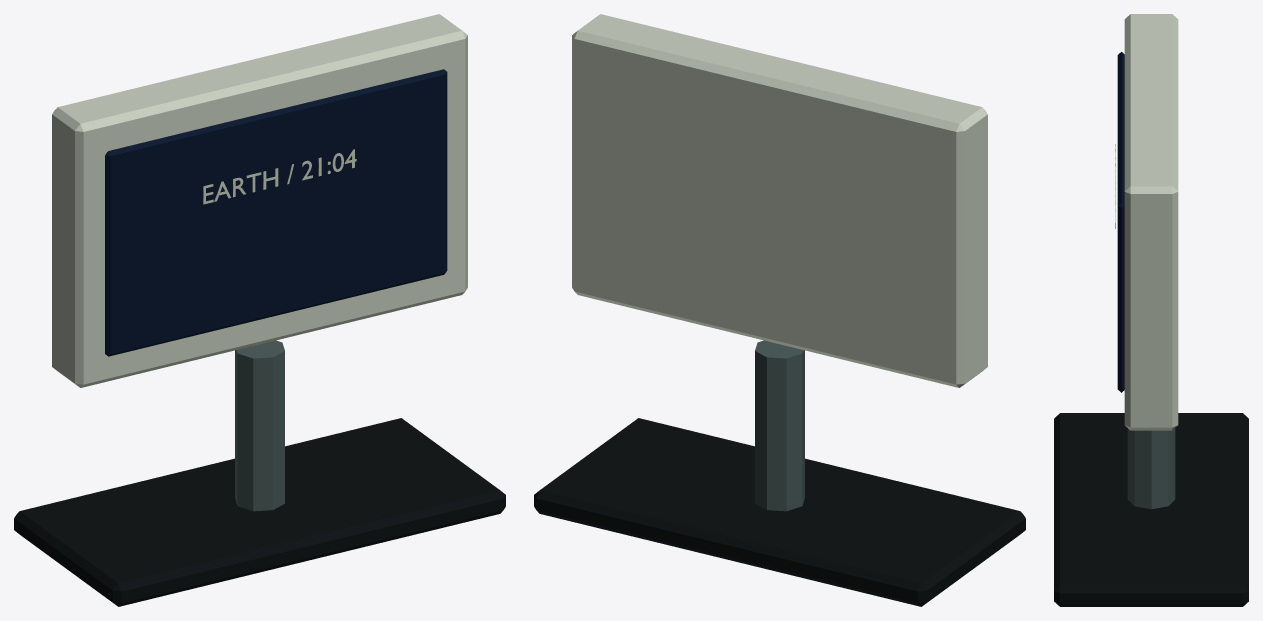
File: SM_MP_Jummt_TV.fbx
The picture shows the model from 3 angles, left to right: view 1: azimuth 30°, elevation 25°; view 2: azimuth 150°, elevation 25°; view 3: azimuth 270°, elevation 25°; orthographic projection. The views are drawn at different scales.
Parts seen in each view (by area): view 1: SM_MP_Jummt_TV; view 2: SM_MP_Jummt_TV; view 3: SM_MP_Jummt_TV.
Boxes of the visible parts, x1,y1,x2,y2 form: SM_MP_Jummt_TV: [14, 14, 505, 606]; SM_MP_Jummt_TV: [534, 14, 1025, 606]; SM_MP_Jummt_TV: [1054, 14, 1248, 606].
Size of the model in its own units: 140 by 65 by 155.
1 material, 1 textured.
